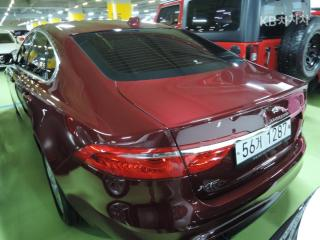1: (265, 131, 273, 144)
2: (272, 128, 279, 142)
5: (241, 142, 249, 158)
6: (248, 138, 256, 154)
7: (283, 122, 288, 135)
8: (277, 125, 284, 138)
plate: (229, 116, 298, 168)
거: (255, 136, 265, 150)
